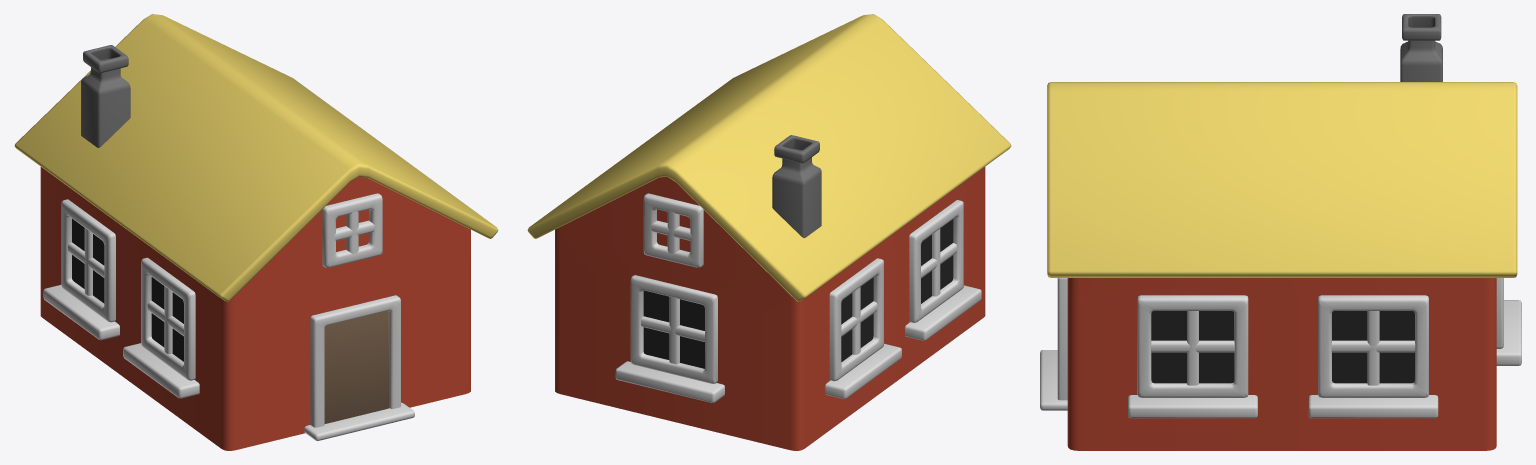
Rendered from House_02.fbx.
3 views of the same model, side by side, from view 1: azimuth 30°, elevation 25°; view 2: azimuth 150°, elevation 25°; view 3: azimuth 270°, elevation 25° (orthographic). The views are drawn at different scales.
Parts seen in each view (by area): view 1: House_02; view 2: House_02; view 3: House_02.
Part boxes in pixels (x1,y1,x2,y2): House_02: (14, 14, 498, 450); House_02: (527, 14, 1011, 450); House_02: (1040, 14, 1521, 450).
Bounding box in the file's own units: 3783 × 3446 × 4819.
